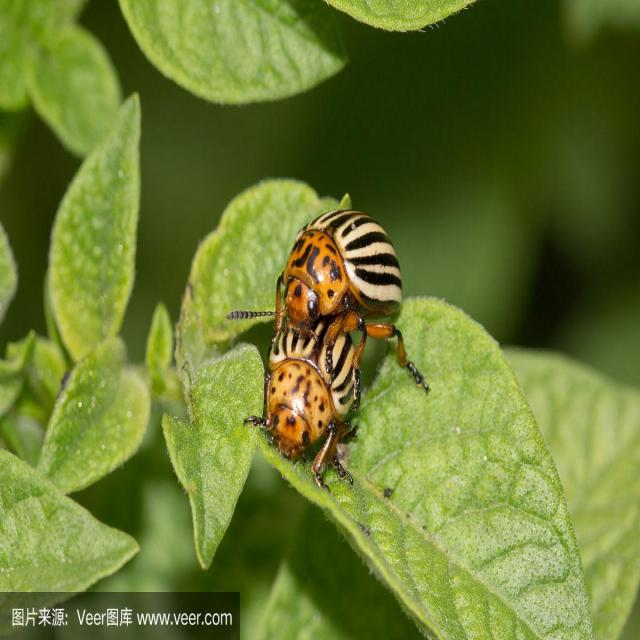ShuCaiHuaBanChong-Grown-: (247, 318, 376, 476), (270, 194, 396, 328)
